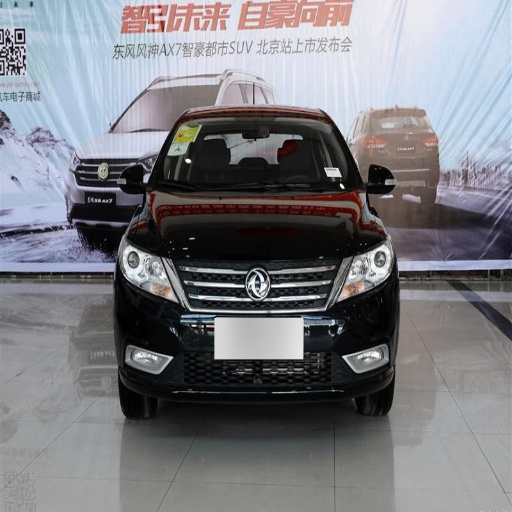front_bumper: (117, 228, 396, 401)
front_right_light: (121, 216, 174, 299)
hood: (150, 190, 381, 256)
